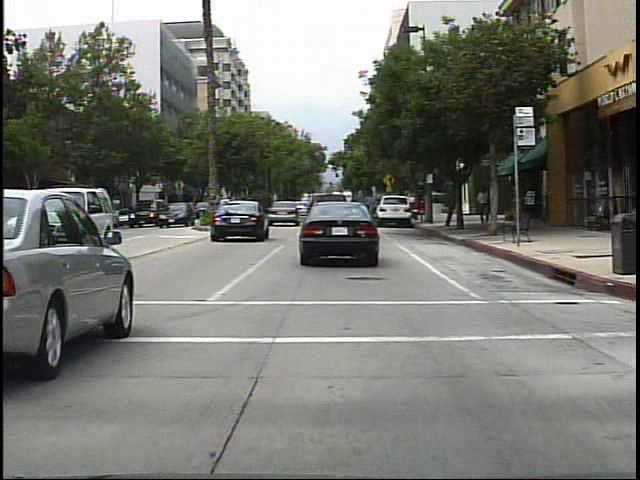person: (476, 184, 496, 228)
